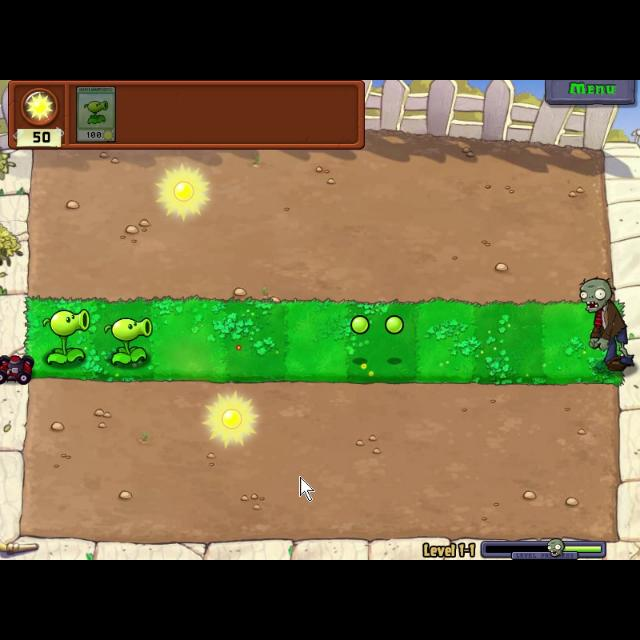Garden: (26, 294, 626, 391)
Menu Button: (542, 80, 638, 108)
Mower: (1, 352, 36, 386)
Peashooter: (74, 82, 116, 144)
Peashooter Seed: (39, 306, 91, 368), (101, 310, 149, 370)
Seed Panel: (5, 80, 371, 152)
Sun: (201, 392, 259, 451), (156, 160, 210, 223)
Zombie: (574, 274, 636, 372)
